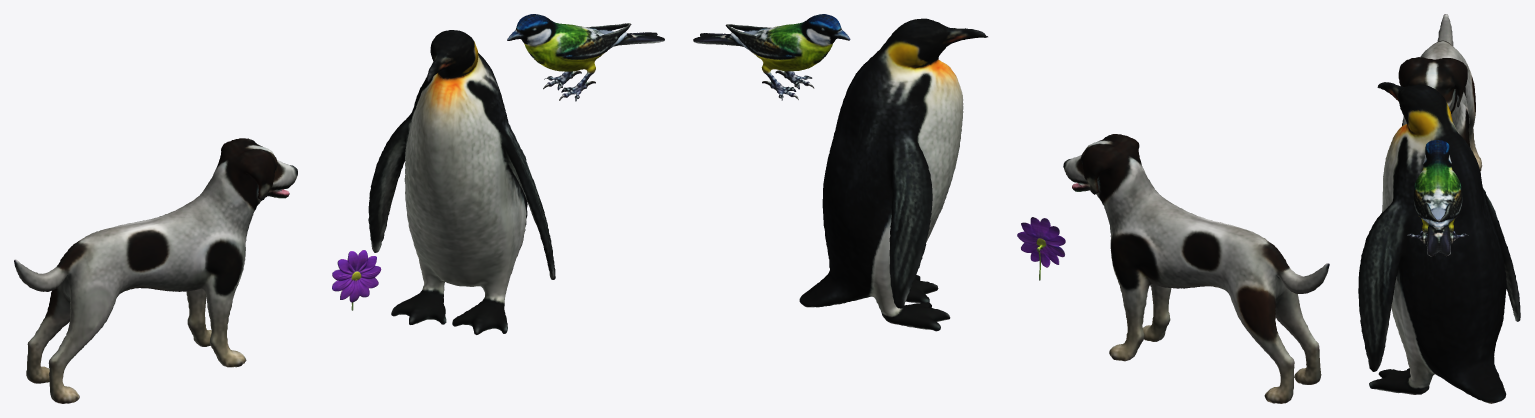
Rendered from penguin2.glb.
3 renders of one model, left to right at view 1: azimuth 30°, elevation 25°; view 2: azimuth 150°, elevation 25°; view 3: azimuth 270°, elevation 25°, orthographic.
Visible parts, largest first — view 1: Mesh_0, Mesh_0.004, Mesh_0.003, Mesh_0.002; view 2: Mesh_0, Mesh_0.004, Mesh_0.003, Mesh_0.002; view 3: Mesh_0, Mesh_0.004, Mesh_0.003.
Boxes of the visible parts, x1,y1,x2,y2 form: Mesh_0: (368,30,555,334); Mesh_0.004: (14,138,297,403); Mesh_0.003: (507,14,664,101); Mesh_0.002: (332,250,381,310); Mesh_0: (799,18,987,331); Mesh_0.004: (1063,134,1329,403); Mesh_0.003: (693,14,850,100); Mesh_0.002: (1017,217,1065,280); Mesh_0: (1358,82,1520,403); Mesh_0.004: (1398,14,1482,171); Mesh_0.003: (1407,140,1468,256).
Size of the model in its own units: 32.18 by 13.84 by 7.08.
4 materials, 4 textured.
